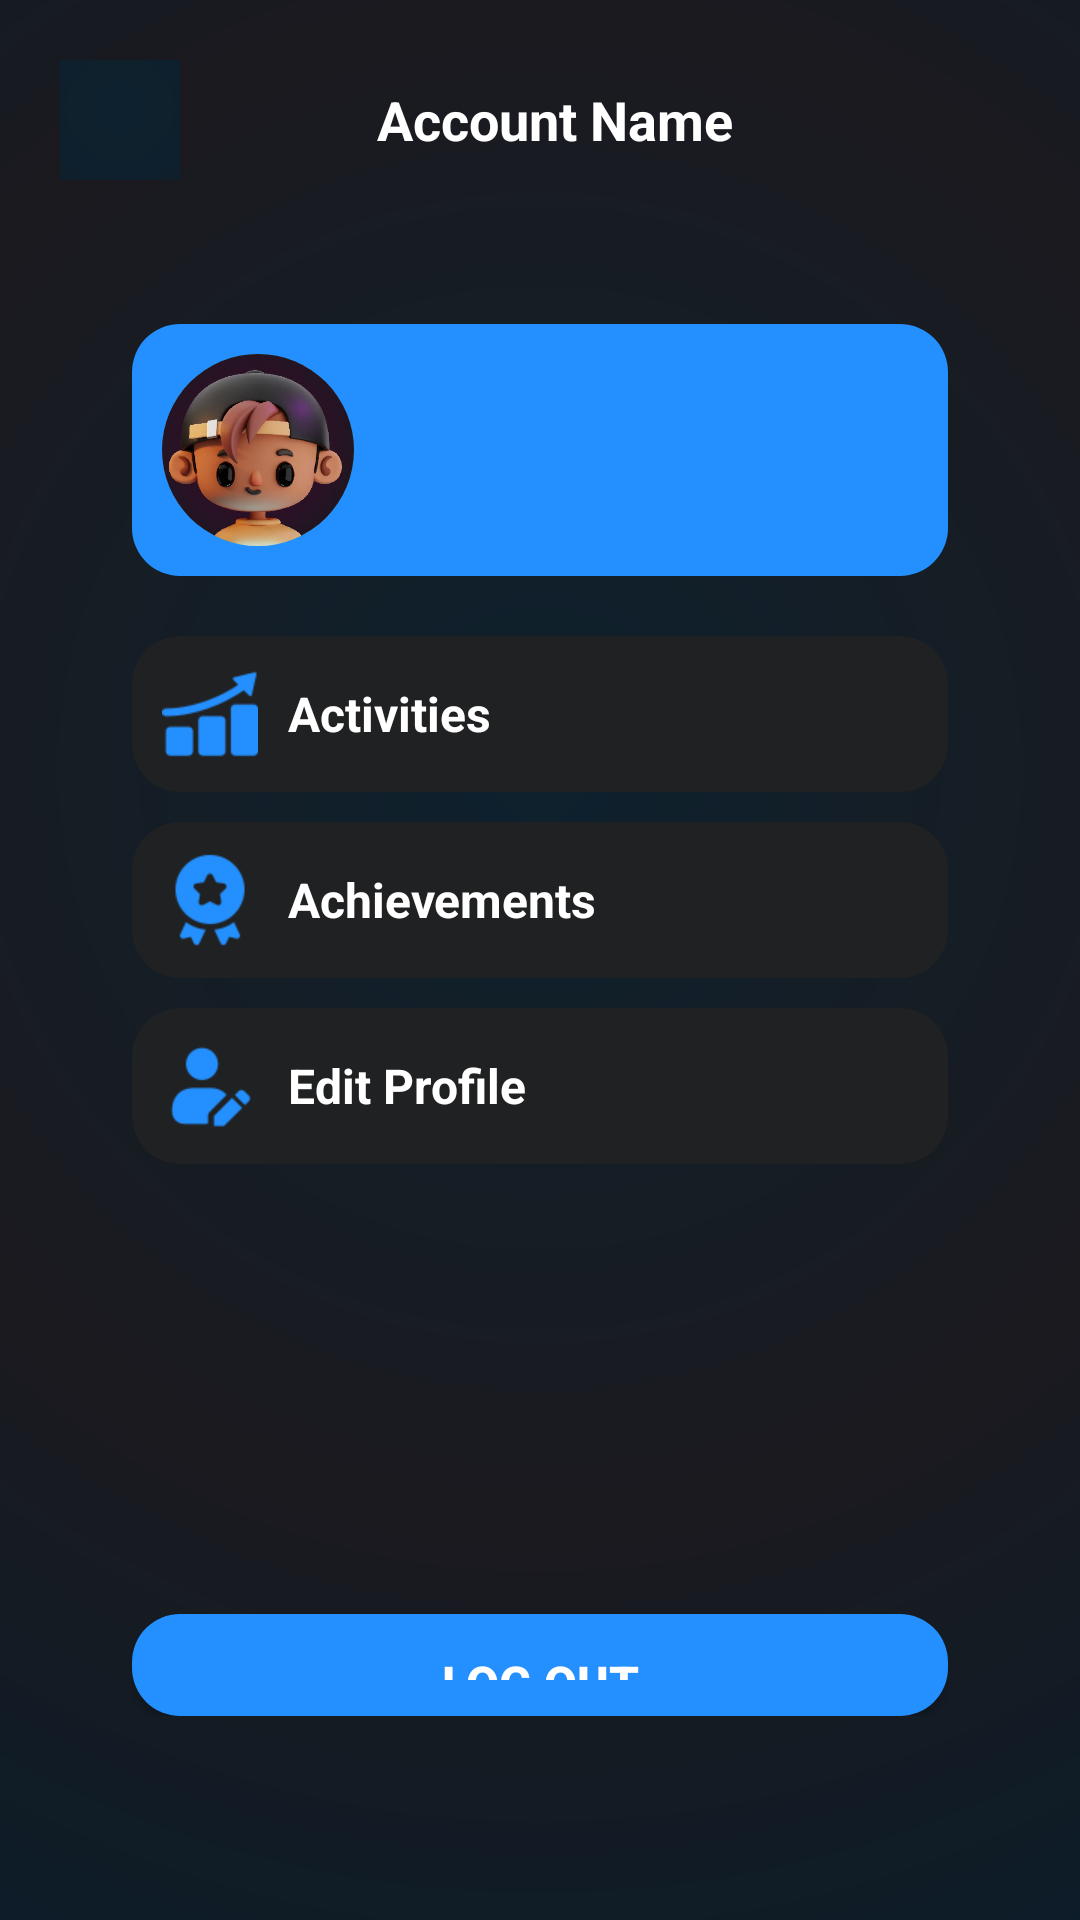

Point at icon controls on the screen. Image size 1080x1920, points as point (x, y).
profile picture: point (258, 450)
progress: point (210, 714)
